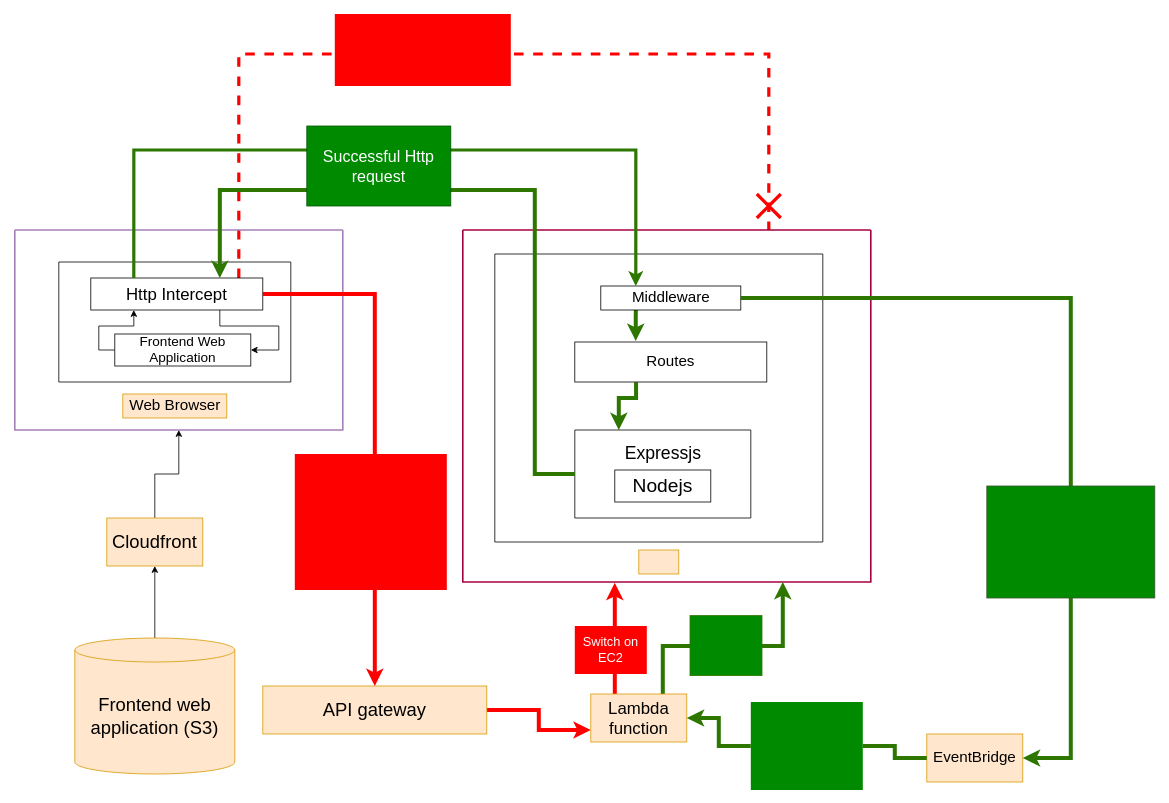
Image size: 1169x803. Some labels were removed from this diagram. Each missing label, with the box of its shape:
Ask lambda function to switch off EC2 after a delay: (750, 702, 862, 790)
Ask lambda function to switch on EC2, if the Http API call to EC2 fails: (294, 454, 446, 590)
EC2: (638, 549, 679, 574)
Failed Http request (Because EC2 is down): (334, 14, 510, 86)
Switch off EC2: (689, 615, 762, 676)
Update the EventBridge before processing each and every API request: (986, 485, 1155, 598)
